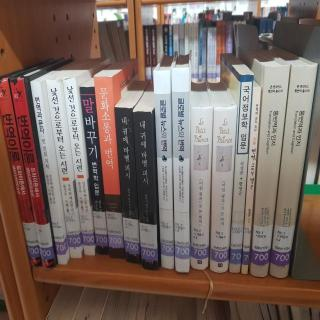book-spine: (262, 60, 318, 279), (242, 62, 290, 278), (8, 75, 56, 270), (0, 77, 43, 269), (45, 77, 82, 260), (30, 81, 66, 265), (62, 76, 95, 257), (94, 75, 125, 260), (79, 85, 112, 257), (206, 104, 237, 273), (228, 73, 253, 273), (186, 106, 213, 270), (153, 70, 175, 269), (114, 106, 141, 264), (239, 88, 261, 274), (170, 68, 190, 272), (133, 111, 158, 271), (268, 222, 296, 268), (250, 222, 273, 266), (34, 220, 54, 261), (139, 222, 158, 262), (22, 220, 40, 260), (211, 225, 230, 262), (106, 210, 124, 249), (123, 217, 140, 255), (191, 224, 209, 259), (174, 220, 190, 259), (229, 223, 244, 264), (64, 211, 80, 247), (93, 210, 108, 247), (79, 210, 94, 246), (160, 219, 174, 257), (51, 218, 65, 256), (241, 227, 251, 265)
